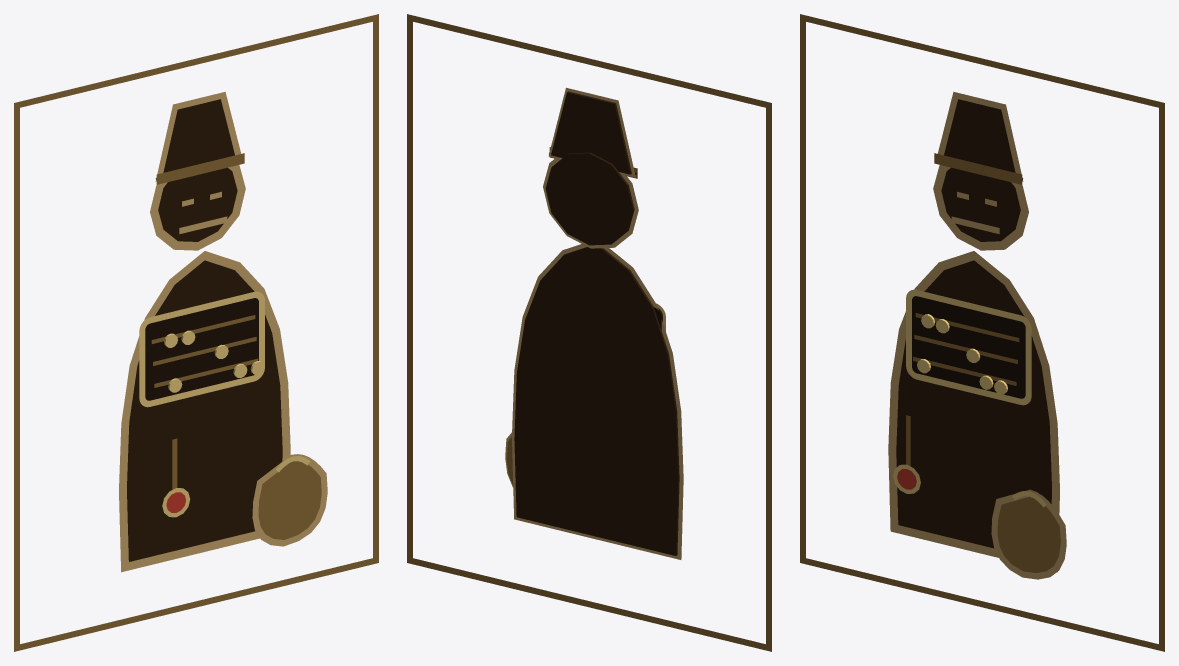
The model's file is npc-otkupshchik.glb.
The picture shows the model from 3 angles, left to right: view 1: azimuth 30°, elevation 25°; view 2: azimuth 150°, elevation 25°; view 3: azimuth 330°, elevation 25°; orthographic projection.
Parts seen in each view (by area): view 1: npc-otkupshchik; view 2: npc-otkupshchik; view 3: npc-otkupshchik.
Part boxes in pixels (left/top/right/bottom): npc-otkupshchik: left=14, top=14, right=378, bottom=651; npc-otkupshchik: left=407, top=14, right=771, bottom=651; npc-otkupshchik: left=800, top=14, right=1164, bottom=651.
Size of the model in its own units: 1.14 by 1.64 by 0.1504.
